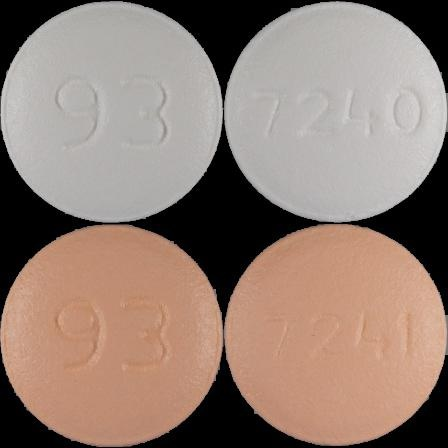67046-642: (0, 0, 224, 224)
